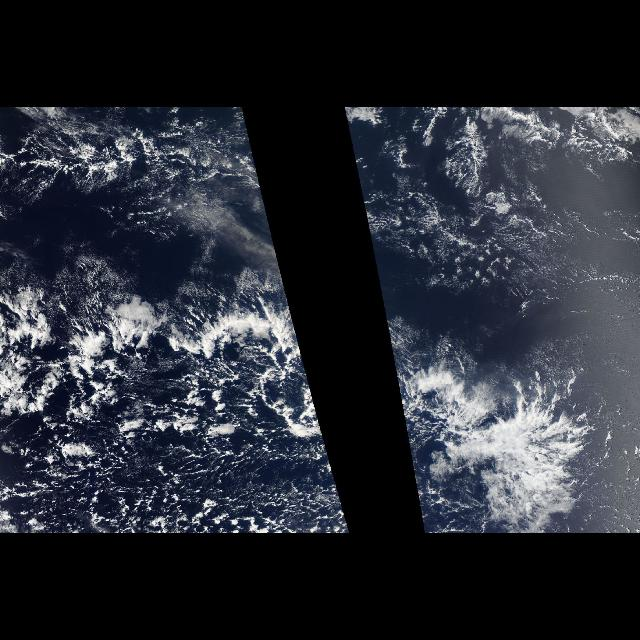Fish: (49, 279, 311, 387), (378, 279, 394, 377)
Gravel: (21, 356, 353, 534), (390, 356, 440, 534)
Sugar: (423, 177, 635, 389)
